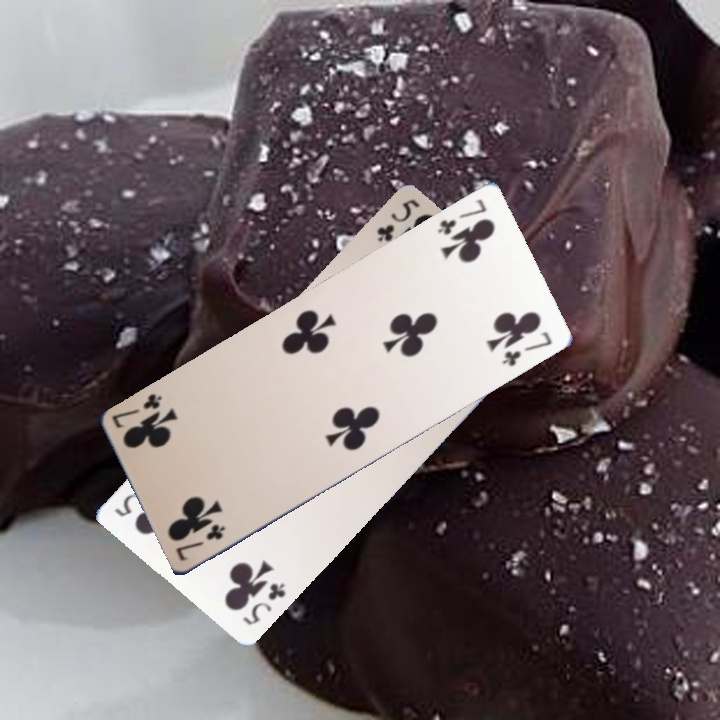5c: (232, 576, 293, 637)
7c: (174, 516, 239, 566), (109, 385, 174, 435), (497, 323, 562, 373), (433, 192, 497, 242)
